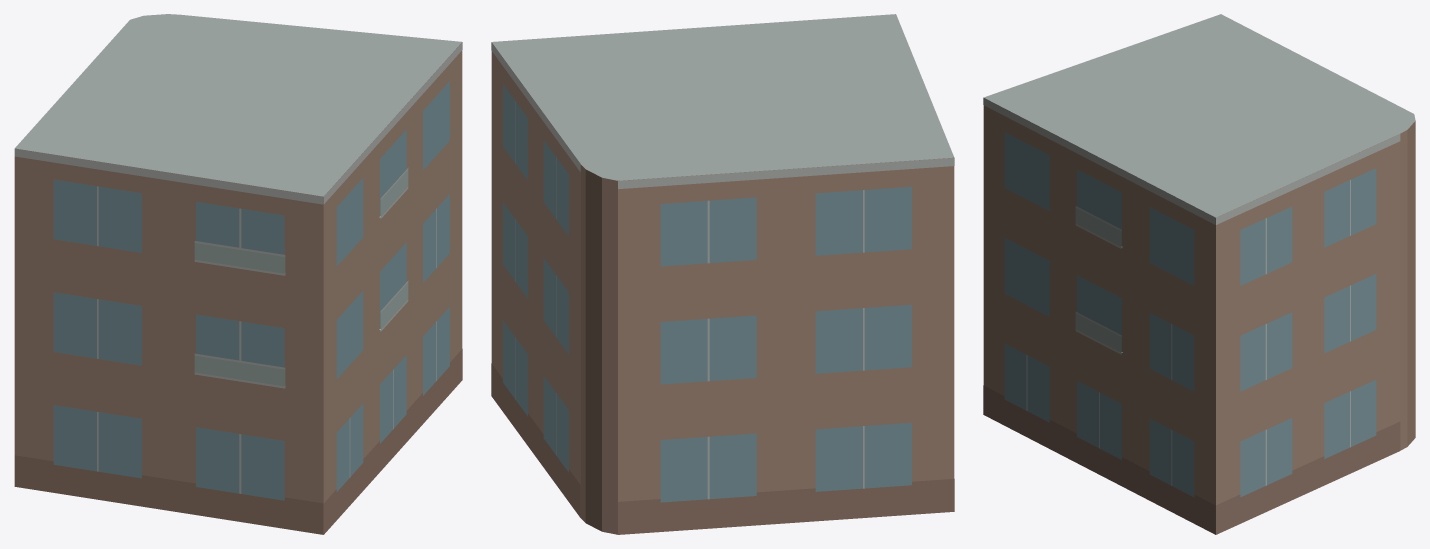
File: survey-upis-32592837.glb
3 renders of one model, left to right at view 1: azimuth 30°, elevation 25°; view 2: azimuth 150°, elevation 25°; view 3: azimuth 270°, elevation 25°, orthographic. The views are drawn at different scales.
Parts seen in each view (by area): view 1: survey-upis-32592837.tmp; view 2: survey-upis-32592837.tmp; view 3: survey-upis-32592837.tmp.
Part boxes in pixels (x1=…): survey-upis-32592837.tmp: x1=14, y1=14, x2=462, y2=534; survey-upis-32592837.tmp: x1=491, y1=14, x2=954, y2=534; survey-upis-32592837.tmp: x1=983, y1=14, x2=1415, y2=534.
Size of the model in its own units: 14.19 by 10.3 by 12.72.
